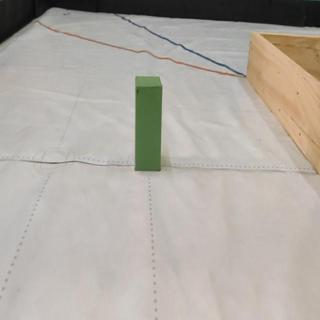greenbox: (132, 74, 165, 172)
